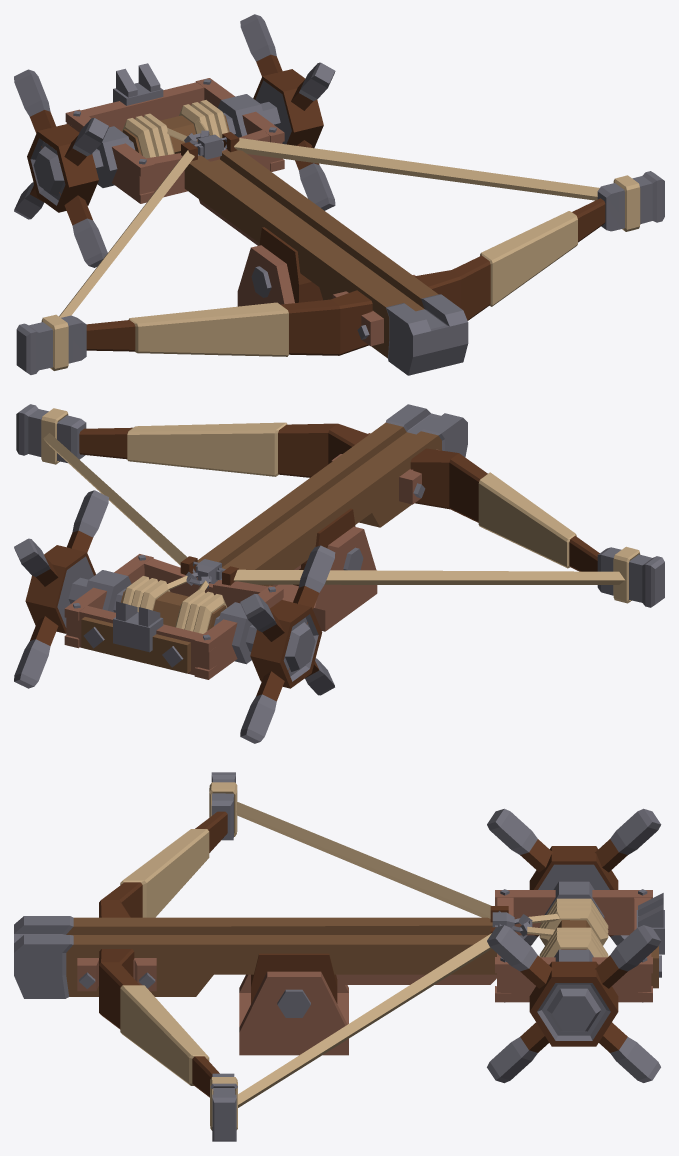
File: ExplodedBalista.fbx
The picture shows the model from 3 angles, top to bottom: view 1: azimuth 30°, elevation 25°; view 2: azimuth 150°, elevation 25°; view 3: azimuth 270°, elevation 25°; orthographic projection. The views are drawn at different scales.
Parts seen in each view (by area): view 1: Balista.004, Balista.013, Balista.014, Balista.015, Balista.008, Balista.035, Balista.034, Balista.028, Balista.009, Balista.026, Balista.003, Balista.016 (+11 smaller); view 2: Balista.004, Balista.014, Balista.013, Balista.016, Balista.008, Balista.003, Balista.025, Balista.027, Balista.009, Balista.035, Balista.034, Balista.029 (+13 smaller); view 3: Balista.004, Balista.003, Balista.014, Balista.009, Balista.013, Balista.016, Balista.015, Balista.026, Balista.027, Balista.008, Balista.028, Balista.025 (+10 smaller).
Boxes of the visible parts, box(x1,y1,x2,y2) form: Balista.004: box(65, 78, 468, 375); Balista.013: box(86, 290, 372, 356); Balista.014: box(414, 198, 605, 320); Balista.015: box(234, 138, 599, 200); Balista.008: box(27, 124, 98, 212); Balista.035: box(16, 314, 86, 374); Balista.034: box(597, 171, 664, 231); Balista.028: box(14, 69, 107, 267); Balista.009: box(253, 69, 323, 148); Balista.026: box(240, 14, 335, 210); Balista.003: box(237, 245, 294, 306); Balista.016: box(59, 150, 194, 317); Balista.004: box(64, 404, 467, 679); Balista.014: box(79, 422, 368, 477); Balista.013: box(410, 448, 599, 571); Balista.016: box(233, 569, 624, 584); Balista.008: box(250, 600, 322, 688); Balista.003: box(276, 526, 377, 631); Balista.025: box(240, 545, 335, 743); Balista.027: box(14, 490, 108, 688); Balista.009: box(25, 545, 95, 633); Balista.035: box(597, 546, 664, 607); Balista.034: box(16, 404, 86, 464); Balista.029: box(81, 617, 190, 673); Balista.004: box(14, 890, 652, 1002); Balista.003: box(239, 971, 348, 1055); Balista.014: box(99, 949, 219, 1097); Balista.009: box(529, 961, 618, 1046); Balista.013: box(99, 811, 227, 917); Balista.016: box(236, 802, 491, 918); Balista.015: box(238, 933, 491, 1107); Balista.026: box(487, 925, 660, 1083); Balista.027: box(487, 925, 660, 1082); Balista.008: box(529, 846, 618, 889); Balista.028: box(519, 808, 661, 945); Balista.025: box(487, 808, 628, 945).
Bounding box in the file's own units: 1525 × 359 × 1278.
